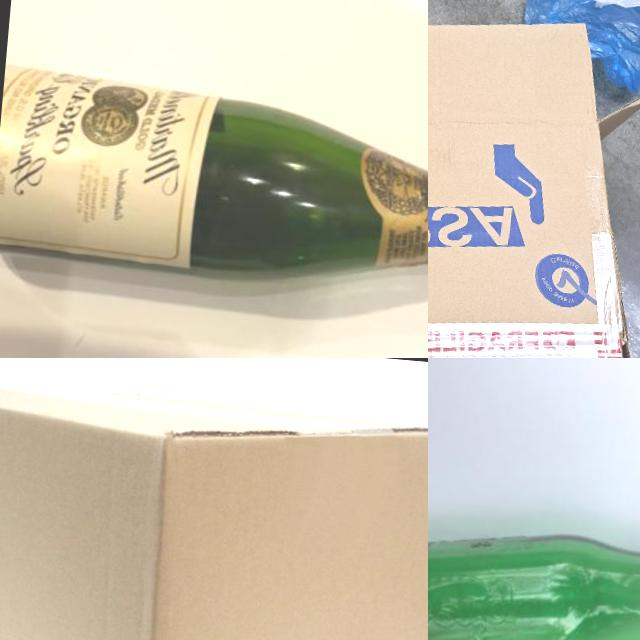garrafa de vidro: (0, 61, 428, 313), (428, 514, 640, 640)
garrafa plástica: (0, 370, 428, 640)
papelão: (428, 0, 640, 358)
sacola plástica: (515, 0, 640, 98)
